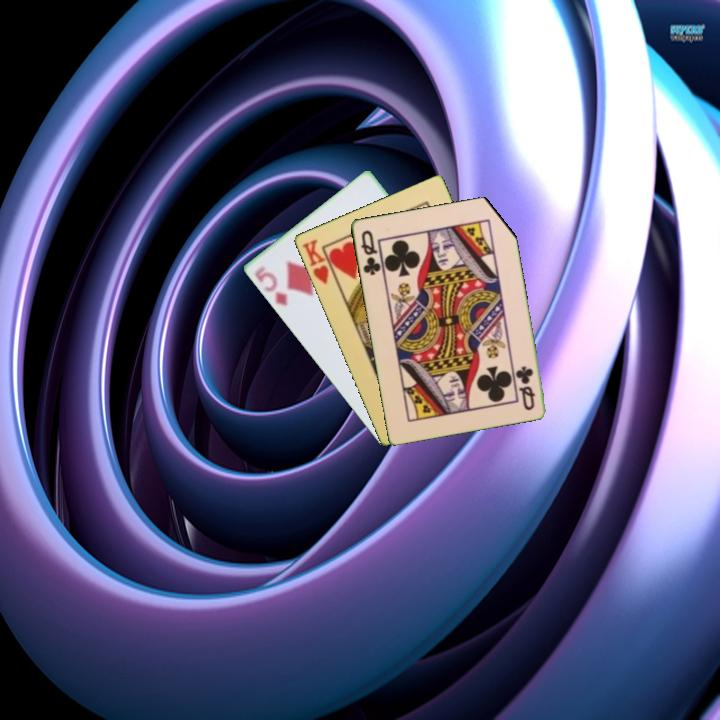5d: (251, 262, 290, 309)
Kh: (298, 236, 339, 287)
Qc: (357, 226, 383, 278), (513, 362, 538, 413)
